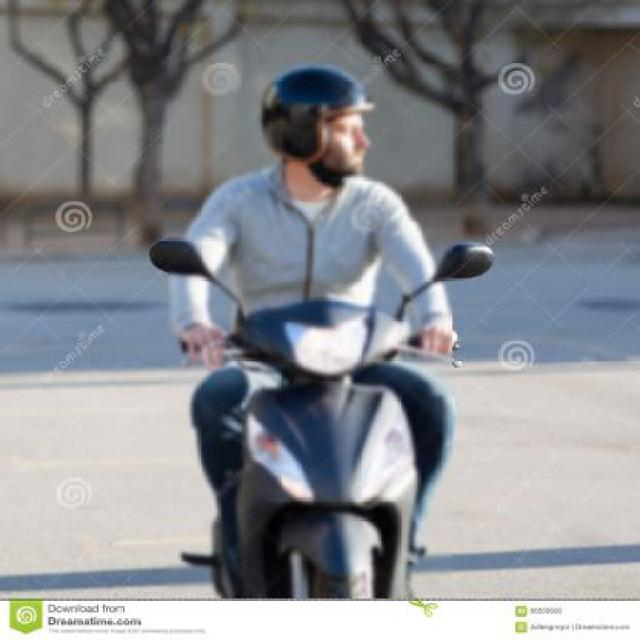helmet: (244, 69, 392, 204)
motorcycle: (132, 66, 508, 640)
